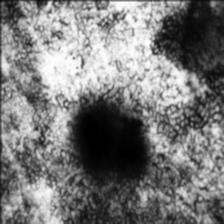Potentially Malignant Skin Tumors: (72, 110, 142, 166)
